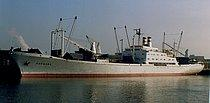Ship: (10, 13, 208, 83)
